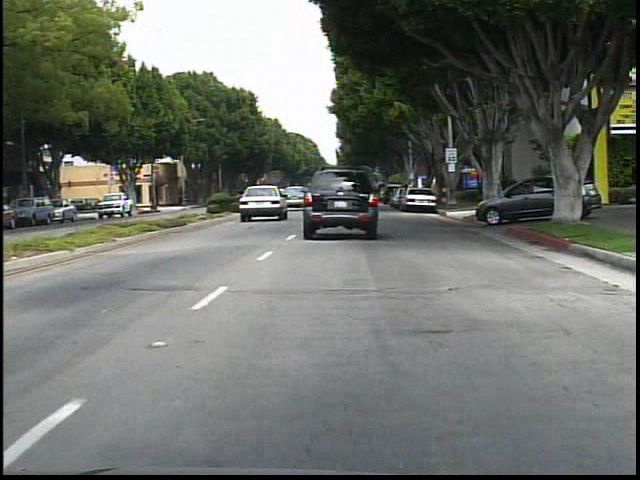person: (486, 170, 504, 209)
